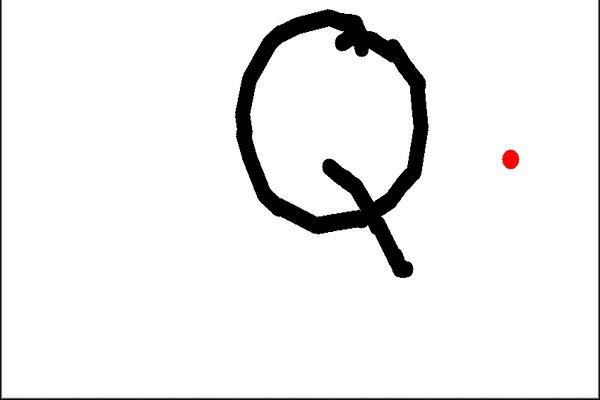Q: (224, 6, 434, 278)
